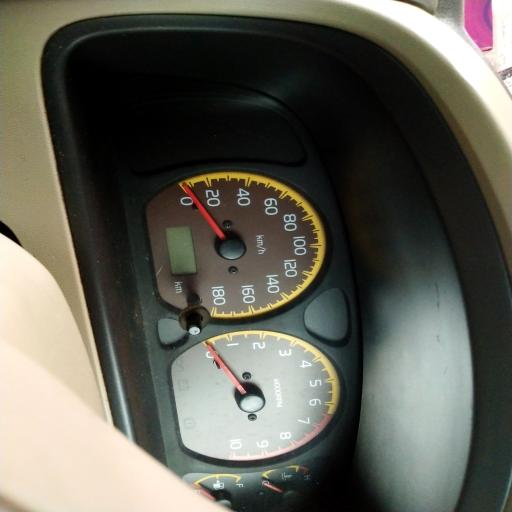tachometer: (171, 331, 342, 463)
